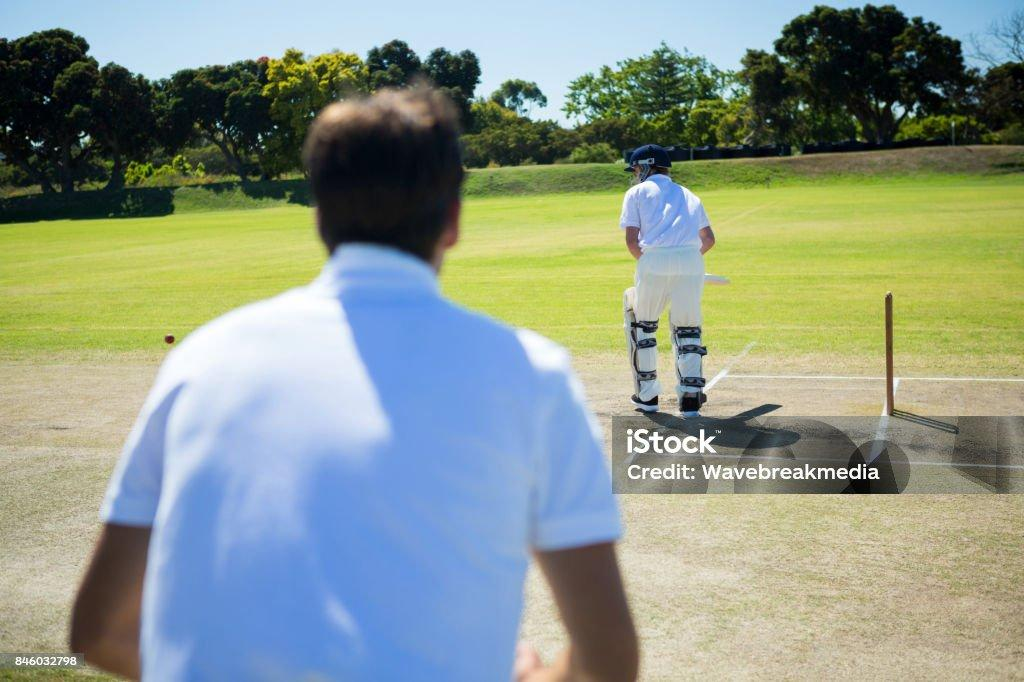batsman: (614, 123, 724, 454)
